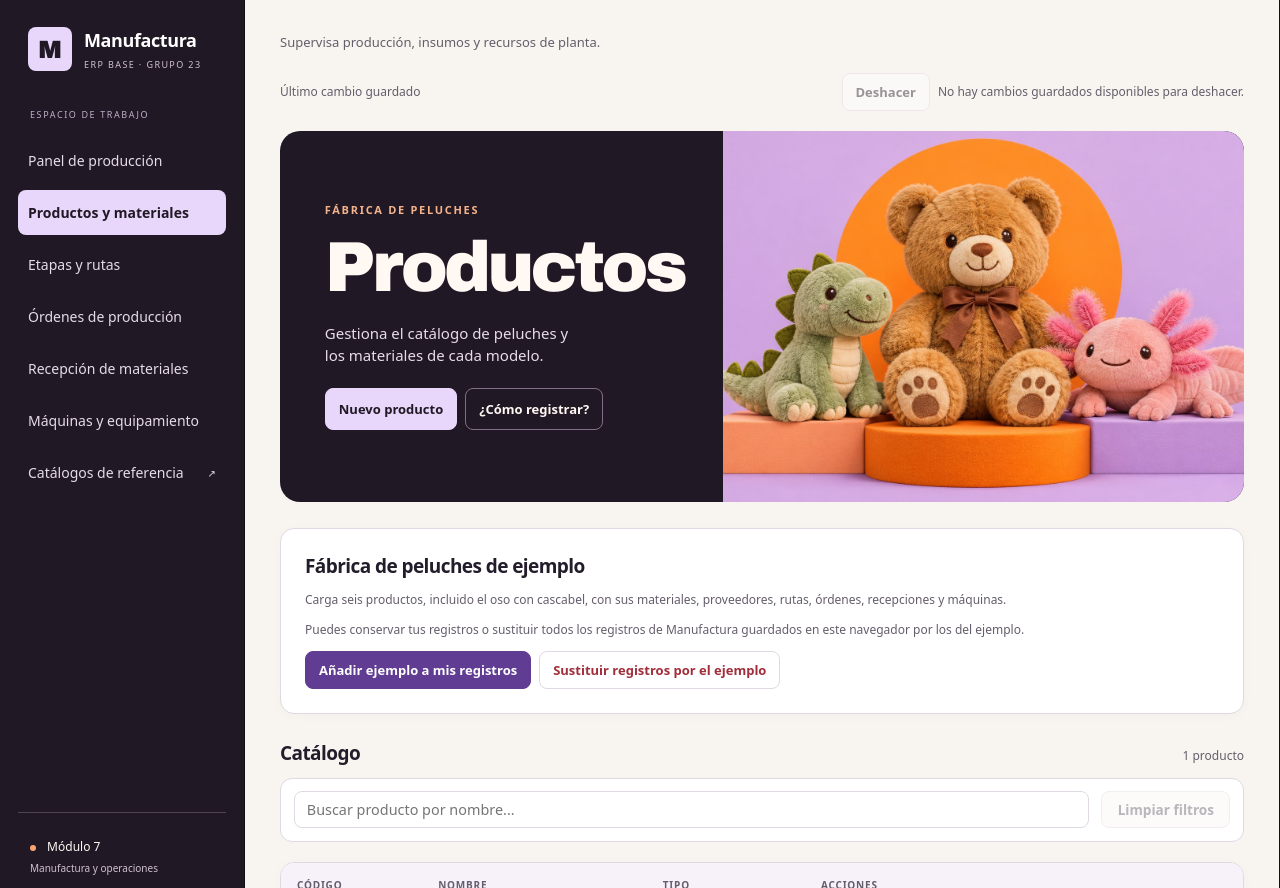
Test: Arranque de Manufactura › reemplaza los ejemplos previos tras confirmar y muestra sus relaciones en el módulo
The width and height of the screenshot is (1280, 888).
Later steps or results of the test are not shown.
(page scrolled)
Click the button "Sustituir registros por el ejemplo". click: (660, 670)
box: [539,651,780,689]
Click the button "Sustituir registros por el ejemplo". click: (660, 670)
box: [539,651,780,689]
(page scrolled)
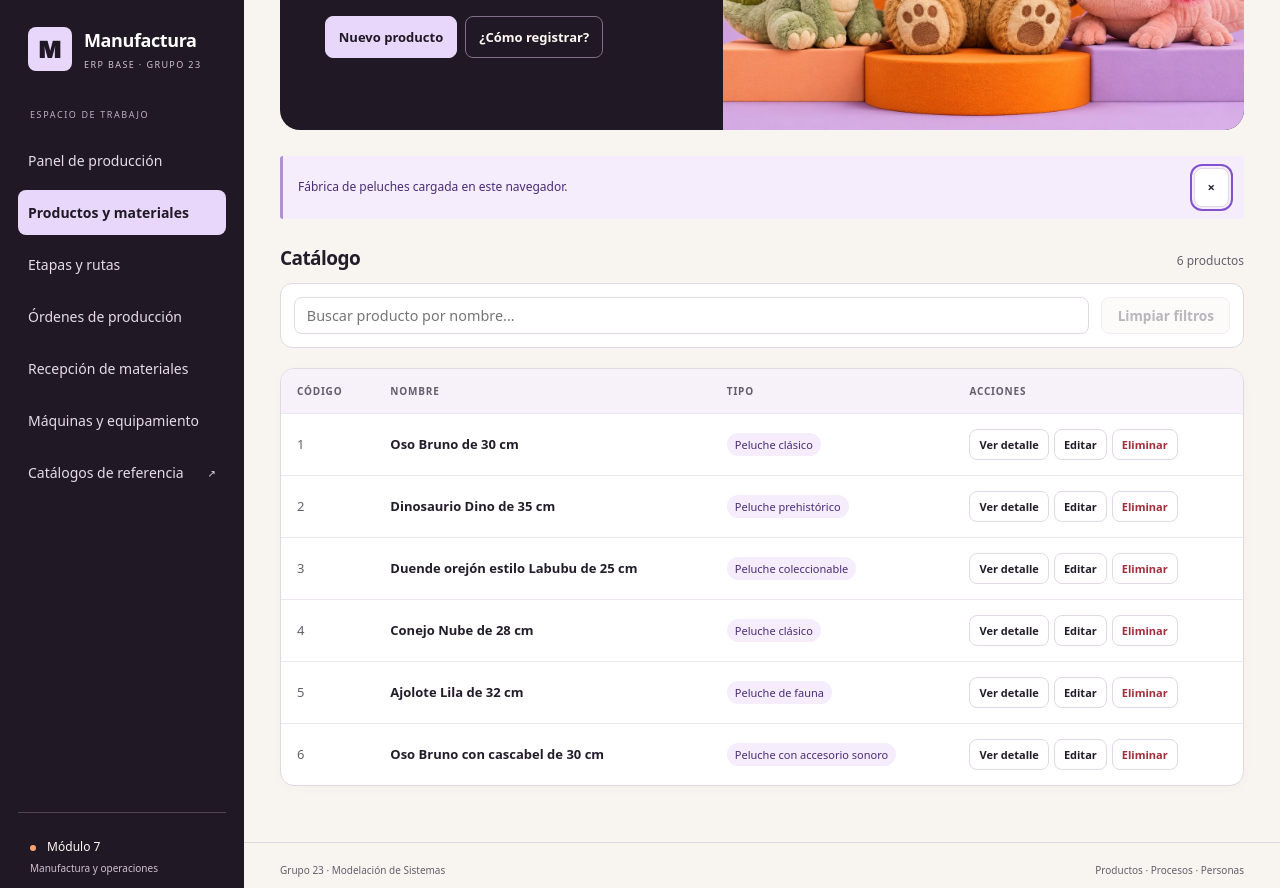
expect the text "Oso Bruno de 30 cm" is shown: met, box [390,435,519,453]
Click the button "Etapas y rutas". click: (122, 264)
box: [18,242,226,287]
(page scrolled)
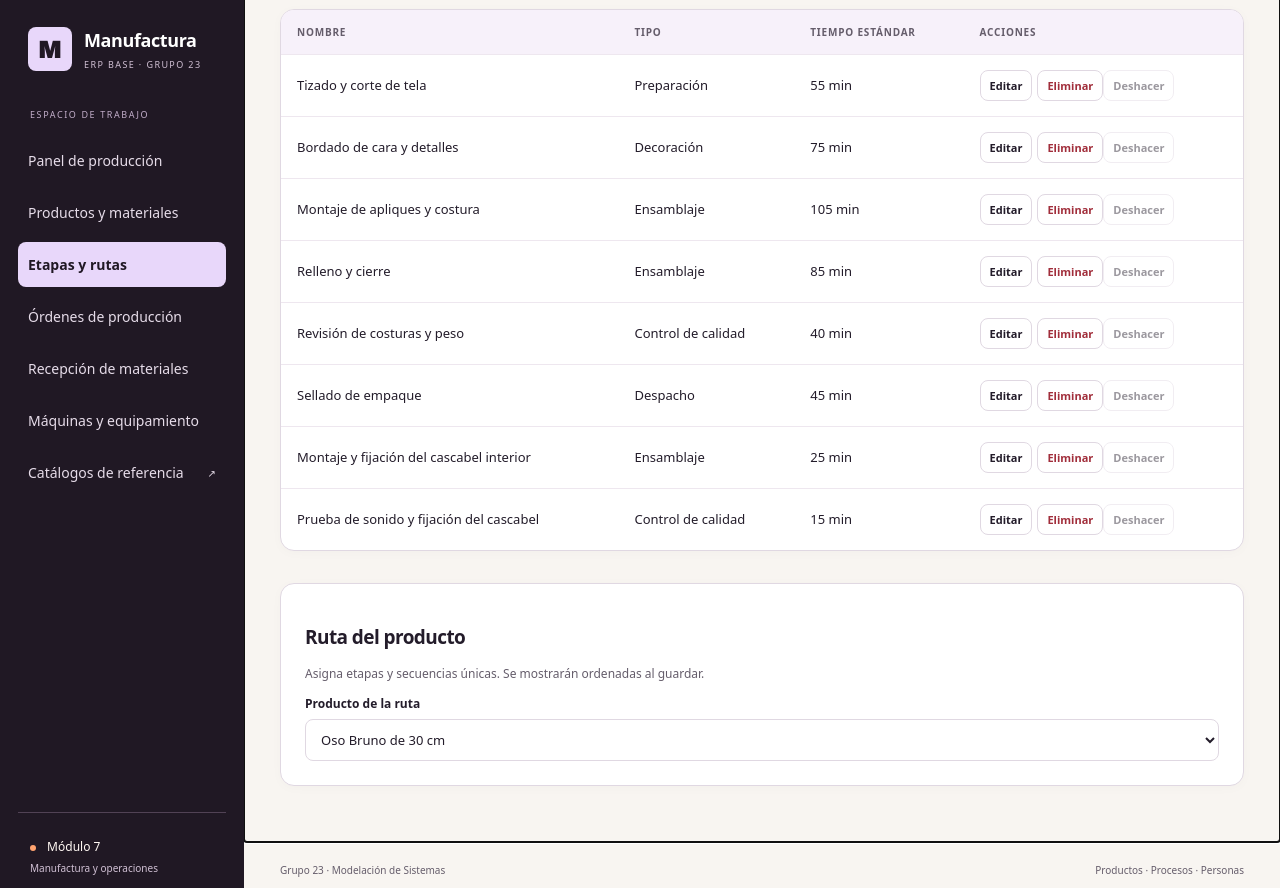
Select "Oso Bruno de 30 cm" in the dropdown named "producto_ruta". click: (762, 740)
box: [305,720,1219,762]
(page scrolled)
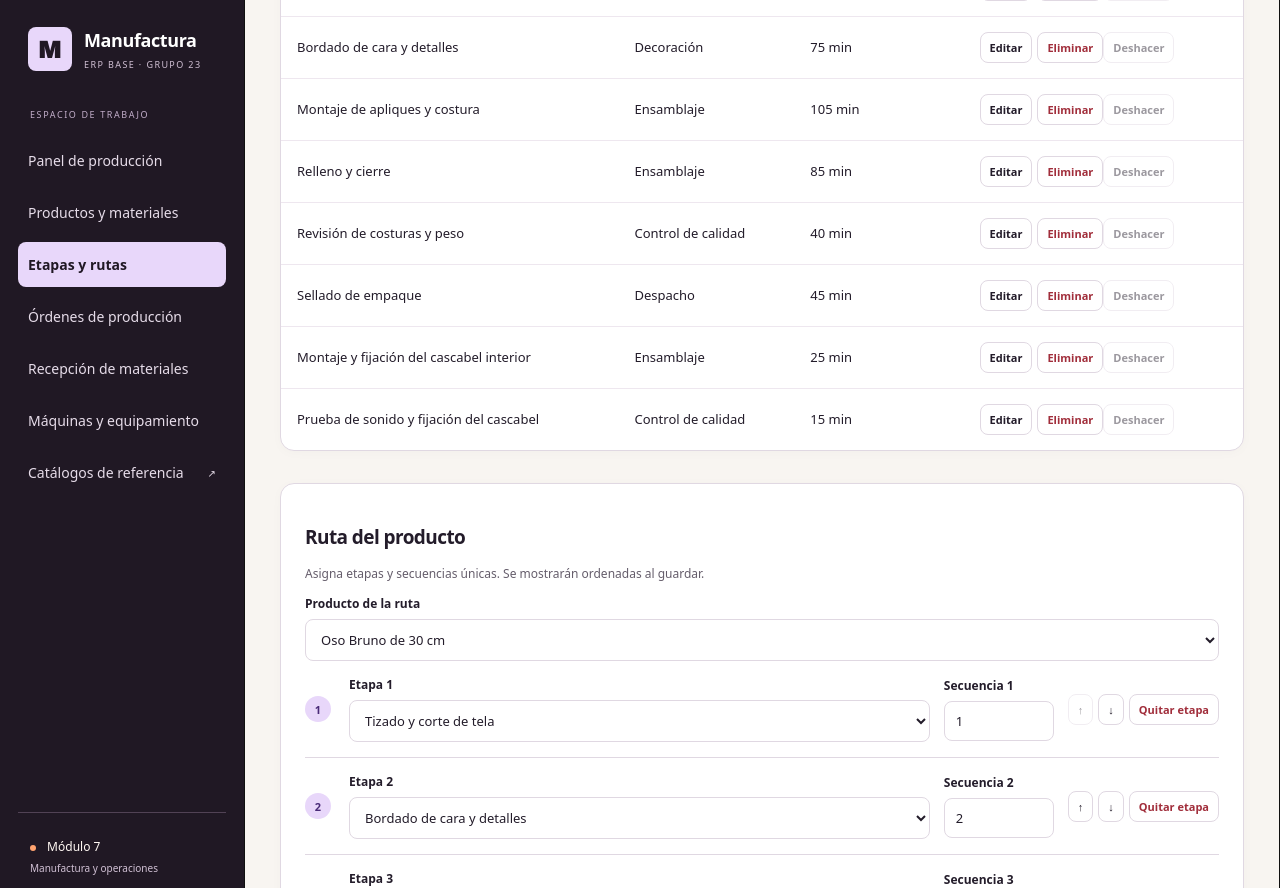
expect the number of elements with class "route-step" is 6: met
Click the button "Recepción de materiales". click: (122, 368)
box: [18,346,226,391]
(page scrolled)
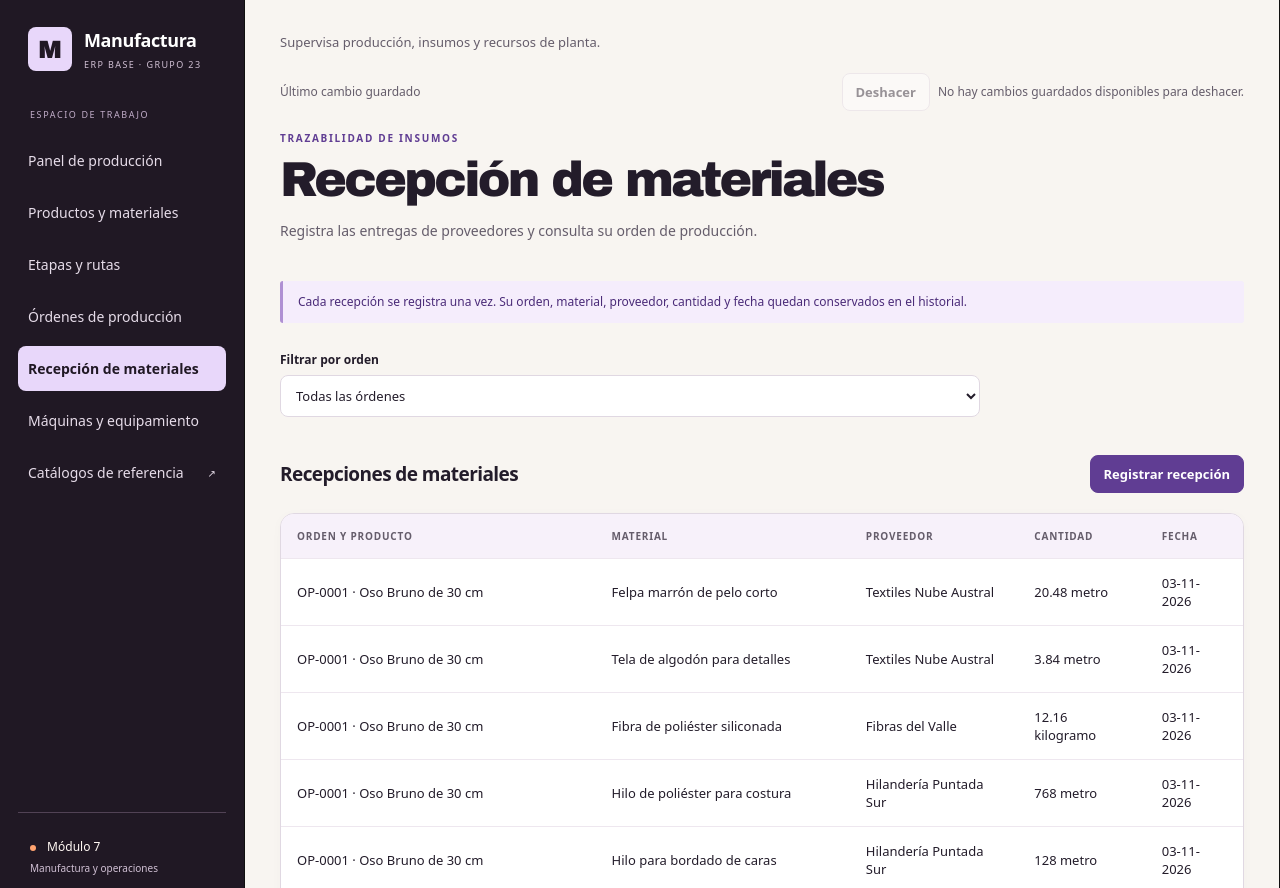
expect the text "Textiles Nube Austral" is shown: met, box [850,559,1018,625]
expect the text "Felpa marrón de pelo corto" is shown: met, box [596,559,850,625]
Click the button "Máquinas y equipamiento". click: (122, 420)
box: [18,398,226,443]
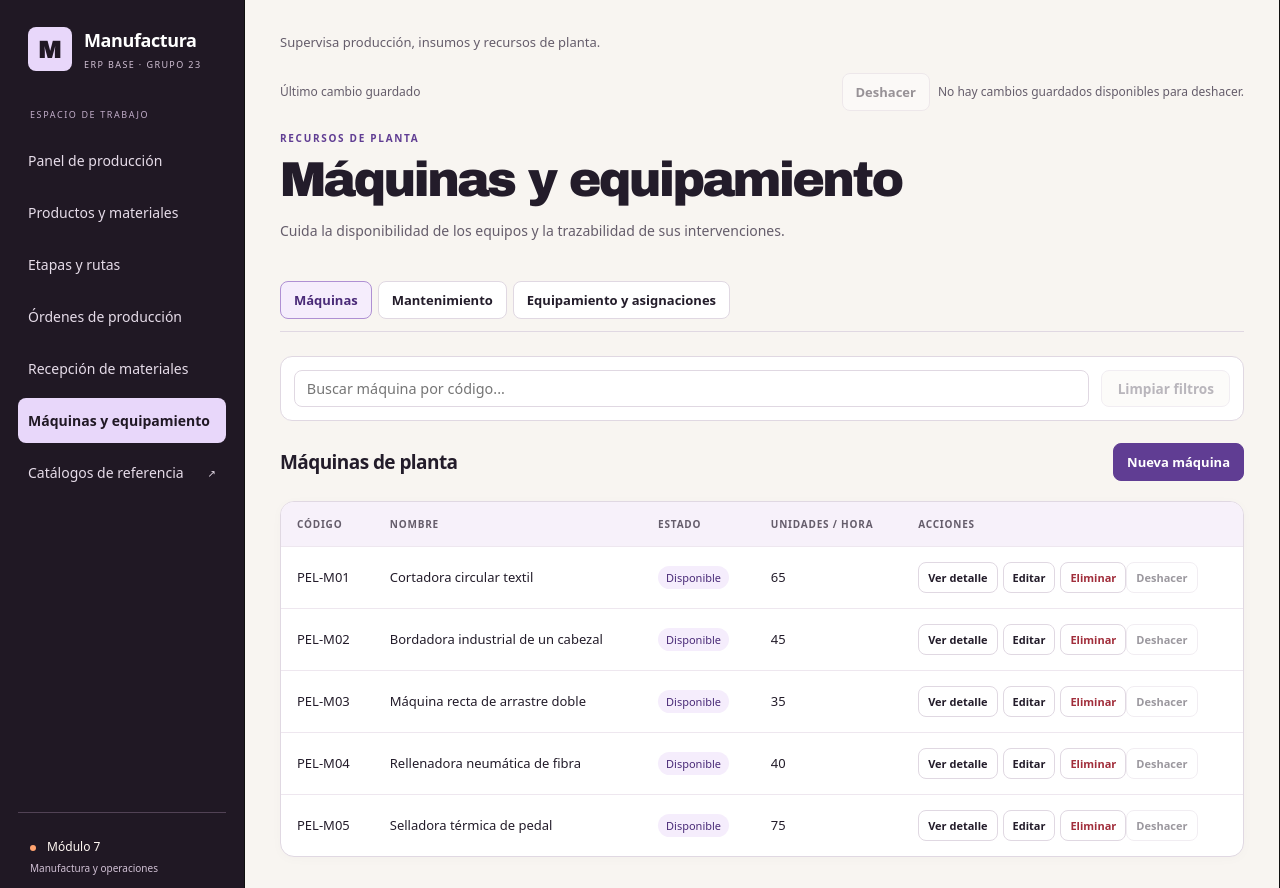
expect the button "Catálogos de referencia ↗" is shown: met, box [18,450,226,495]
expect the text "Rellenadora neumática de fibra" is shown: met, box [374,732,642,794]
